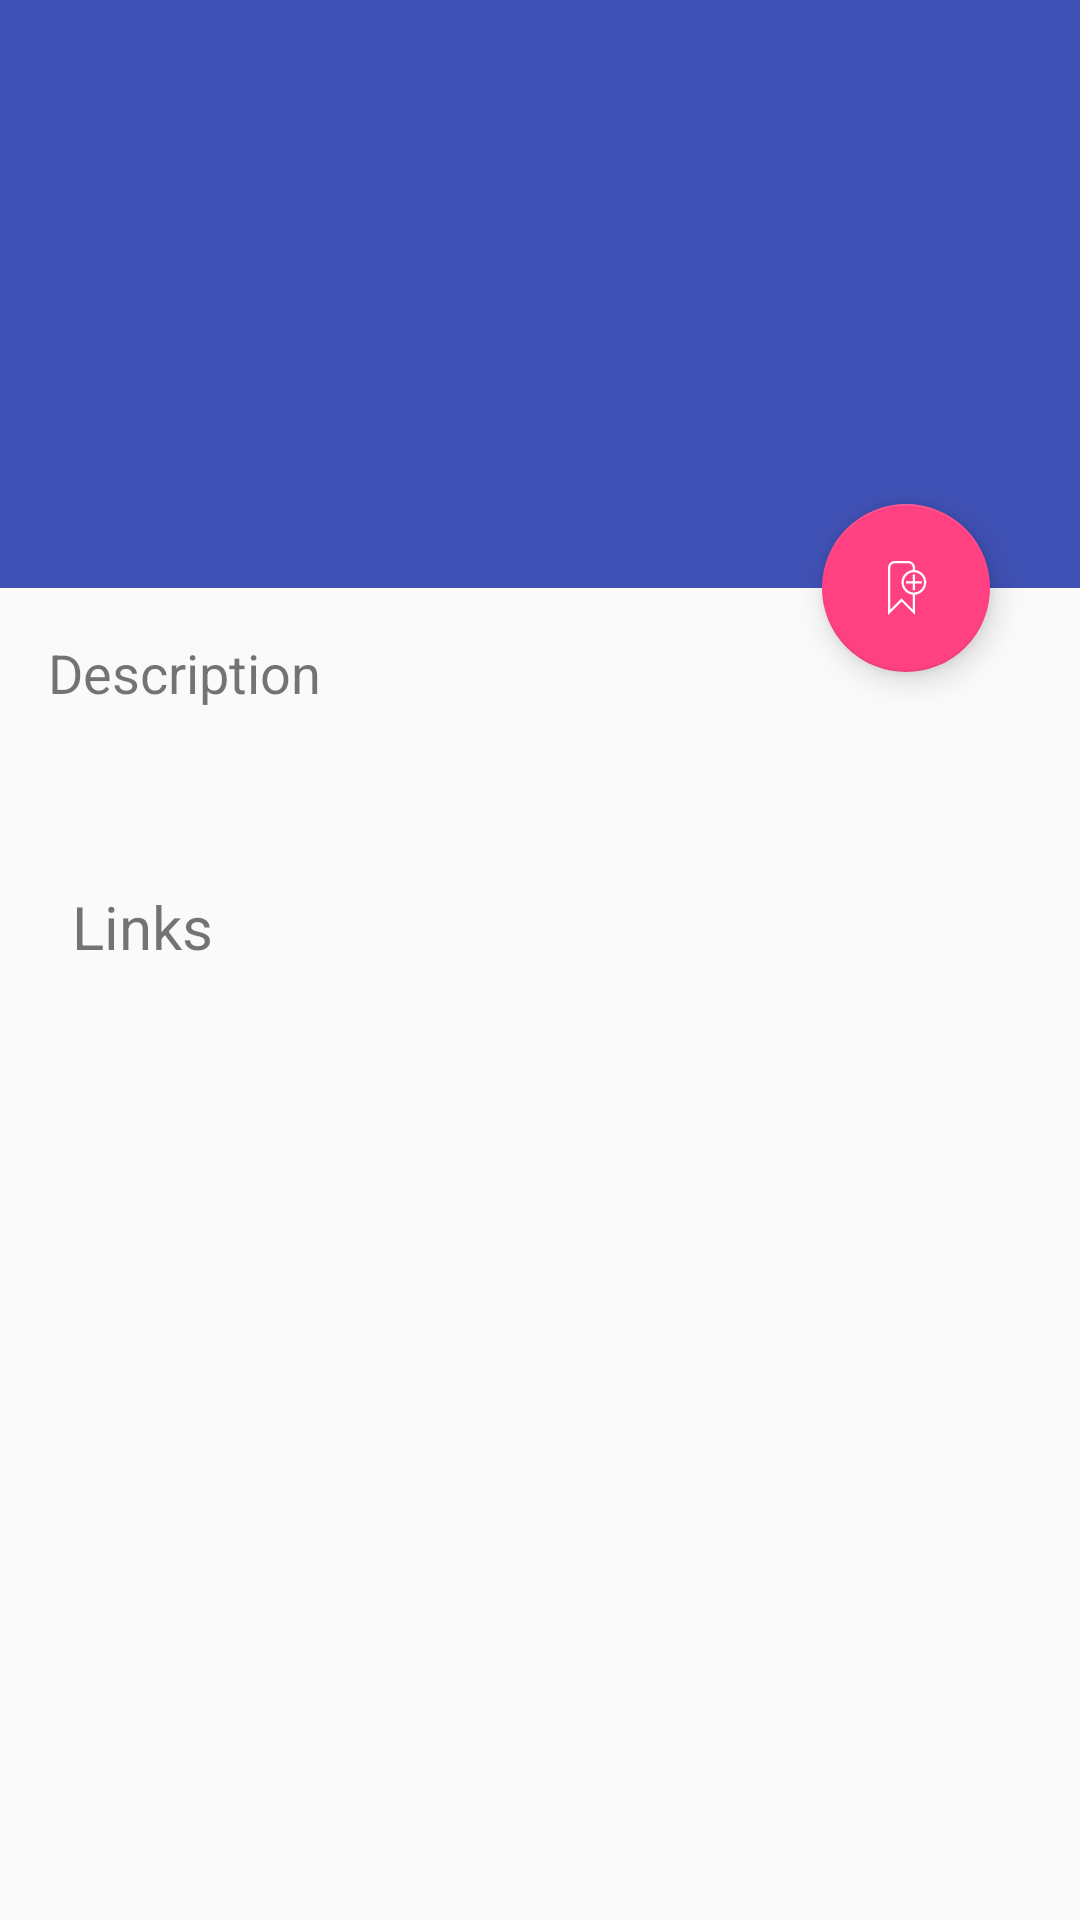

Where to tap for icons on this 1080 x 1920 app screen, as (x,y):
bookmark add: (906,588)
